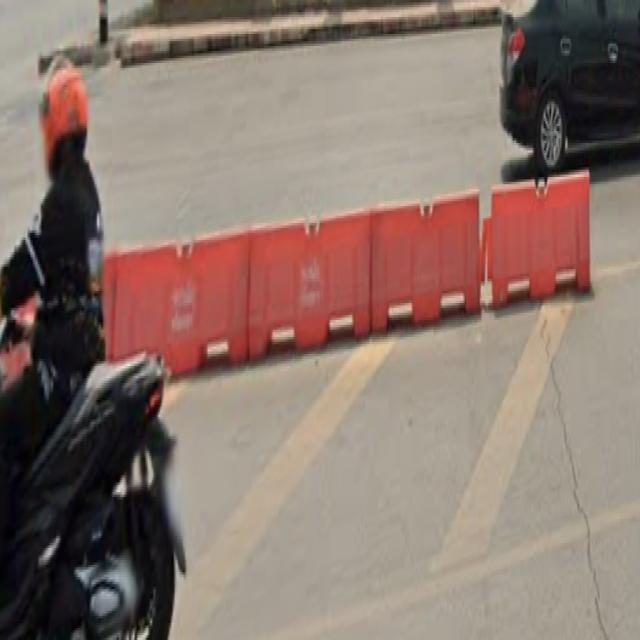fallen_object: (222, 200, 378, 371), (462, 159, 609, 307), (82, 250, 265, 368), (377, 173, 498, 325)
